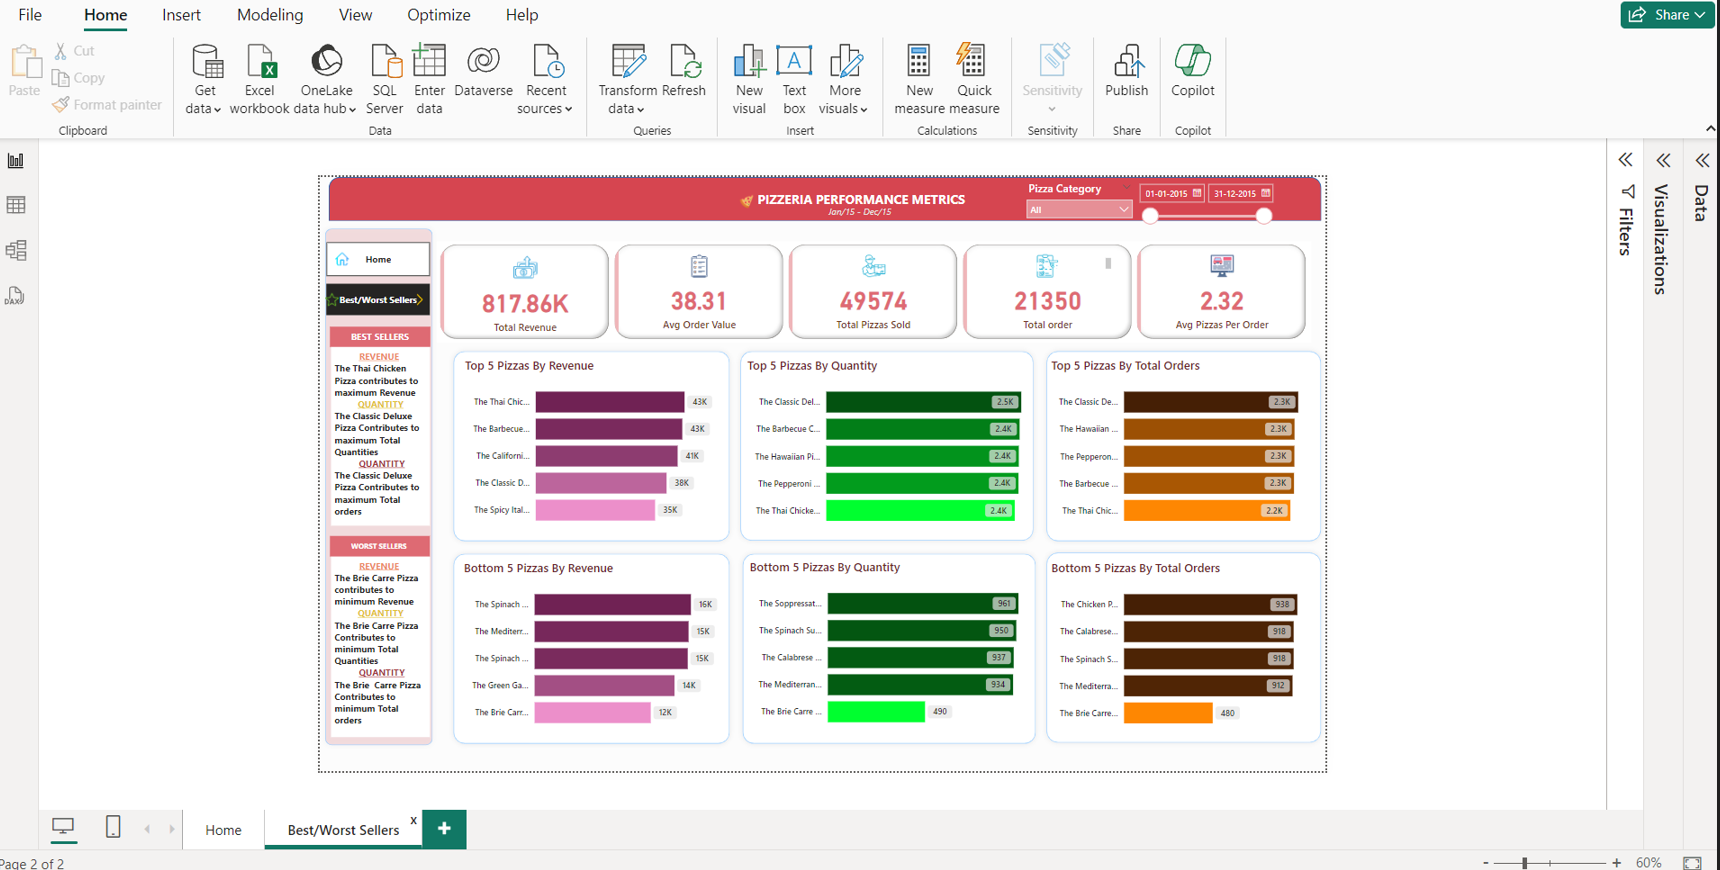

This screenshot's page, from the dashboard's own definition file:
{"tool":"powerbi","page":{"name":"Best/Worst Sellers","canvas":[1490,880],"ordinal":1},"visuals":[{"type":"shape","box":[0,68.8,175,781.2],"z":0},{"type":"cardVisual","fields":{"Data":["pizza_sales.Total Revenue","pizza_sales.Avg Order Value","pizza_sales.Total Pizzas Sold","pizza_sales.Total order","pizza_sales.Avg Pizzas Per Order"]},"box":[173.8,95,1295,150],"z":1000},{"type":"shape","box":[13,0,1470,65],"z":2000},{"type":"textbox","box":[956.7,115,220,30],"z":3000},{"type":"textbox","box":[747.5,36.2,165,48.8],"z":4000},{"type":"image","box":[571.2,21.2,120,30],"z":5000},{"type":"textbox","box":[643.8,15,356.2,35],"z":6000},{"type":"textbox","box":[15.7,221.4,148.6,30],"z":7000},{"type":"textbox","box":[16.7,561.7,146.7,268.3],"z":8000},{"type":"textbox","box":[16.7,251.7,146.7,265],"z":9000},{"type":"textbox","box":[15,531.7,148.3,30],"z":10000},{"type":"slicer","fields":{"Values":["pizza_sales.pizza_category"]},"box":[1036,0,177,65],"z":11000},{"type":"slicer","fields":{"Values":["pizza_sales.order_date"]},"box":[1202,0,218,96],"z":12000},{"type":"shape","box":[190,250,425,297.5],"z":13000},{"type":"shape","box":[615,250,450,296.7],"z":14000},{"type":"shape","box":[1067.5,250,422.5,297.5],"z":15000},{"type":"shape","box":[190,550,425,297.5],"z":16000},{"type":"shape","box":[617.5,550,450,297.5],"z":17000},{"type":"shape","box":[1067.5,547.5,422.5,297.5],"z":18000},{"type":"barChart","title":"Top 5 Pizzas By Revenue","fields":{"Category":["pizza_sales.pizza_name"],"Y":["pizza_sales.Total Revenue"]},"box":[210,266.4,386.4,264.5],"z":19000},{"type":"barChart","title":"Bottom 5 Pizzas By Revenue","fields":{"Category":["pizza_sales.pizza_name"],"Y":["pizza_sales.Total Revenue"]},"box":[209.1,567.3,386.4,264.5],"z":20000},{"type":"barChart","title":"Top 5 Pizzas By Quantity","fields":{"Category":["pizza_sales.pizza_name"],"Y":["pizza_sales.Total Pizzas Sold"]},"box":[628.3,266.7,436.7,265],"z":21000},{"type":"barChart","title":"Bottom 5 Pizzas By Quantity","fields":{"Category":["pizza_sales.pizza_name"],"Y":["pizza_sales.Total Pizzas Sold"]},"box":[631.7,565,433.3,265],"z":22000},{"type":"barChart","title":"Top 5 Pizzas By Total Orders","fields":{"Category":["pizza_sales.pizza_name"],"Y":["pizza_sales.Total order"]},"box":[1078.3,266.7,401.7,265],"z":23000},{"type":"barChart","title":"Bottom 5 Pizzas By Total Orders","fields":{"Category":["pizza_sales.pizza_name"],"Y":["pizza_sales.Total order"]},"box":[1078.3,566.7,401.7,265],"z":24000},{"type":"pageNavigator","box":[10,158.3,153.3,46.7],"z":25000},{"type":"pageNavigator","box":[10,96.7,153.3,50],"z":26000},{"type":"image","box":[16.7,106.7,33.3,30],"z":27000},{"type":"image","box":[133.3,168.3,30,26.7],"z":28000},{"type":"image","box":[0,166.7,36.7,30],"z":29000}]}

Visuals, with their boxes on the page's 1490x880 design canvas (x1, y1, x2, y2). These are canvas units, not pixel positions in the 1720x870 screenshot, which may show the page scaled, cropped or inside an application window:
shape: bbox=[0, 69, 175, 850]
cardVisual - pizza_sales.Total Revenue x pizza_sales.Avg Order Value: bbox=[174, 95, 1469, 245]
shape: bbox=[13, 0, 1483, 65]
textbox: bbox=[957, 115, 1177, 145]
textbox: bbox=[748, 36, 912, 85]
image: bbox=[571, 21, 691, 51]
textbox: bbox=[644, 15, 1000, 50]
textbox: bbox=[16, 221, 164, 251]
textbox: bbox=[17, 562, 163, 830]
textbox: bbox=[17, 252, 163, 517]
textbox: bbox=[15, 532, 163, 562]
slicer - pizza_sales.pizza_category: bbox=[1036, 0, 1213, 65]
slicer - pizza_sales.order_date: bbox=[1202, 0, 1420, 96]
shape: bbox=[190, 250, 615, 548]
shape: bbox=[615, 250, 1065, 547]
shape: bbox=[1068, 250, 1490, 548]
shape: bbox=[190, 550, 615, 848]
shape: bbox=[618, 550, 1068, 848]
shape: bbox=[1068, 548, 1490, 845]
"Top 5 Pizzas By Revenue" barChart: bbox=[210, 266, 596, 531]
"Bottom 5 Pizzas By Revenue" barChart: bbox=[209, 567, 596, 832]
"Top 5 Pizzas By Quantity" barChart: bbox=[628, 267, 1065, 532]
"Bottom 5 Pizzas By Quantity" barChart: bbox=[632, 565, 1065, 830]
"Top 5 Pizzas By Total Orders" barChart: bbox=[1078, 267, 1480, 532]
"Bottom 5 Pizzas By Total Orders" barChart: bbox=[1078, 567, 1480, 832]
pageNavigator: bbox=[10, 158, 163, 205]
pageNavigator: bbox=[10, 97, 163, 147]
image: bbox=[17, 107, 50, 137]
image: bbox=[133, 168, 163, 195]
image: bbox=[0, 167, 37, 197]
